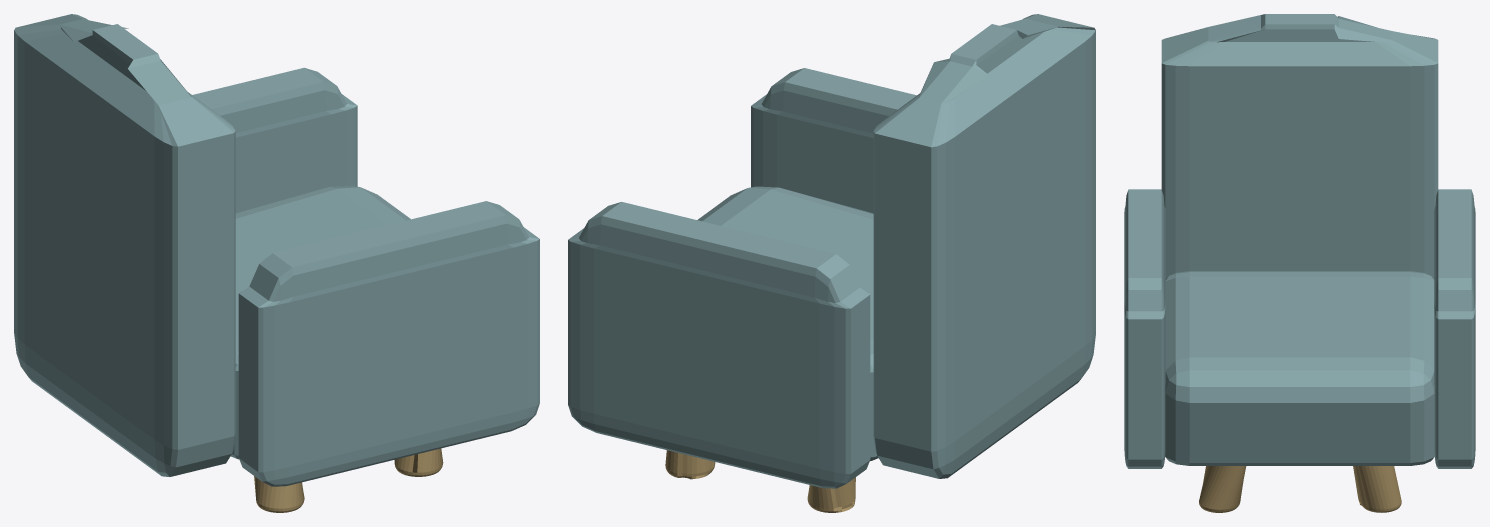
The model's file is blue-chair.glb.
The picture shows the model from 3 angles, left to right: view 1: azimuth 30°, elevation 25°; view 2: azimuth 150°, elevation 25°; view 3: azimuth 270°, elevation 25°; orthographic projection. The views are drawn at different scales.
Visible parts, largest first — view 1: 立方体.001, 立方体.002, 立方体.003, 立方体, 円柱.002, 円柱; view 2: 立方体.001, 立方体.003, 立方体.002, 立方体, 円柱.003, 円柱.001; view 3: 立方体.001, 立方体, 立方体.002, 立方体.003, 円柱.001, 円柱.
Boxes of the visible parts, box(x1,y1,x2,y2) form: 立方体.001: box(14, 14, 235, 476); 立方体.002: box(238, 201, 539, 486); 立方体.003: box(192, 67, 357, 213); 立方体: box(231, 185, 410, 459); 円柱.002: box(254, 476, 304, 512); 円柱: box(394, 448, 443, 476); 立方体.001: box(873, 14, 1095, 478); 立方体.003: box(568, 202, 870, 488); 立方体.002: box(751, 68, 916, 213); 立方体: box(697, 186, 878, 460); 円柱.003: box(807, 477, 855, 512); 円柱.001: box(665, 450, 715, 479); 立方体.001: box(1161, 14, 1438, 278); 立方体: box(1165, 271, 1434, 465); 立方体.002: box(1124, 189, 1165, 468); 立方体.003: box(1434, 189, 1475, 468); 円柱.001: box(1353, 466, 1401, 512); 円柱: box(1199, 466, 1246, 512).
Bounding box in the file's own units: 2.55 × 3.06 × 2.54.
